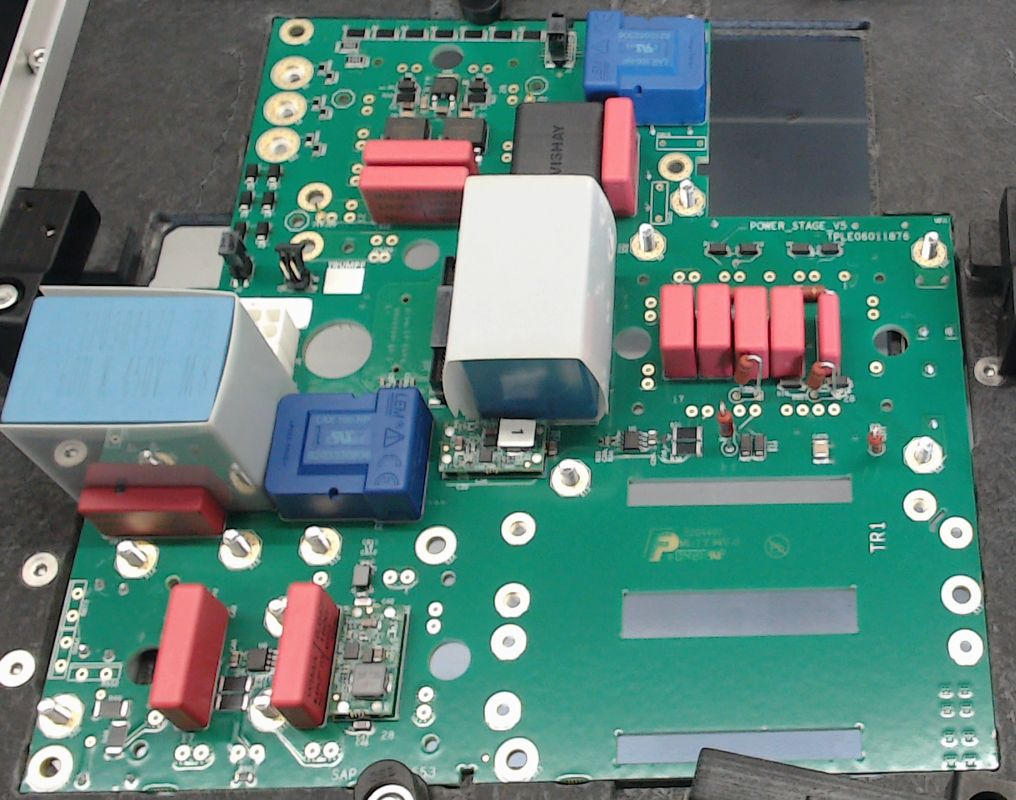comp1: (263, 388, 432, 521), (584, 9, 706, 127)
comp2: (150, 584, 229, 731), (272, 582, 340, 728), (77, 486, 225, 539), (358, 165, 467, 223), (600, 97, 638, 213), (731, 281, 769, 390), (695, 282, 735, 383), (658, 283, 697, 376), (767, 285, 806, 376), (361, 138, 474, 164), (815, 290, 842, 365)
comp3: (511, 98, 602, 177)
comp4: (2, 286, 302, 513), (444, 174, 613, 420)
